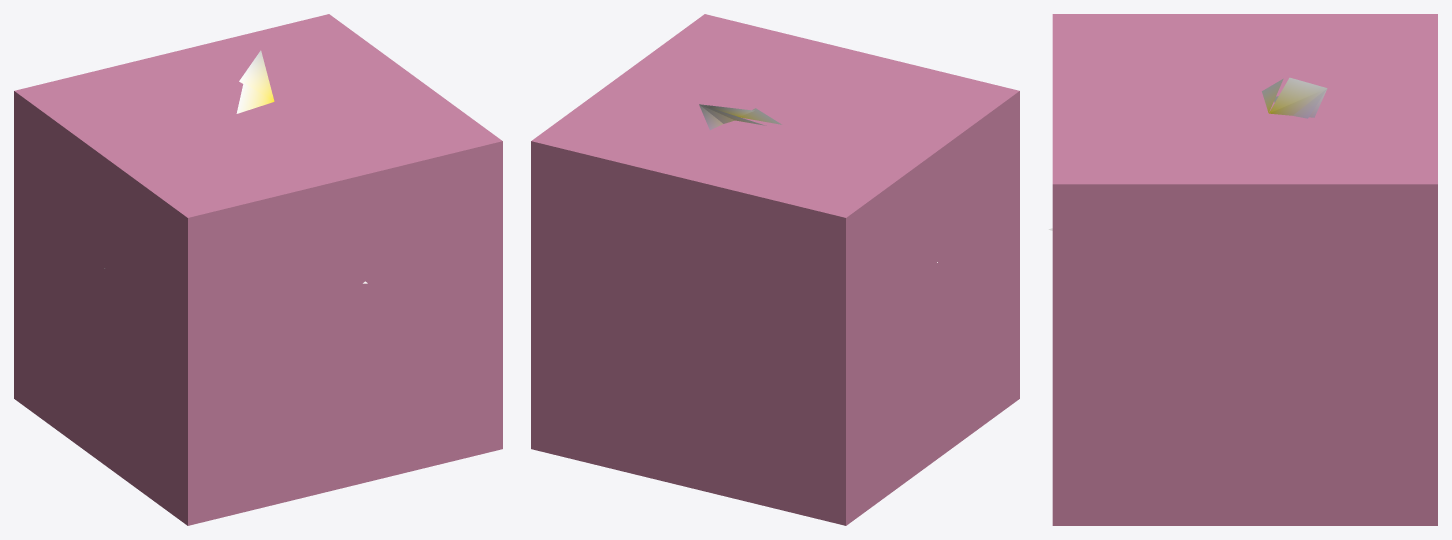
File: tree_palm_e.dae
3 renders of one model, left to right at view 1: azimuth 30°, elevation 25°; view 2: azimuth 150°, elevation 25°; view 3: azimuth 270°, elevation 25°, orthographic. The views are drawn at different scales.
Visible parts, largest first — view 1: Untitled, tree_oak_bush_a200; view 2: Untitled, tree_oak_bush_a200; view 3: Untitled, tree_oak_bush_a200.
Part boxes in pixels (x1,y1,x2,y2): Untitled: (14, 14, 502, 525); tree_oak_bush_a200: (104, 50, 367, 283); Untitled: (531, 14, 1019, 525); tree_oak_bush_a200: (699, 104, 937, 262); Untitled: (1052, 14, 1437, 525); tree_oak_bush_a200: (1049, 77, 1327, 230).
Bounding box in the file's own units: 5.21 × 5.02 × 5.43.
